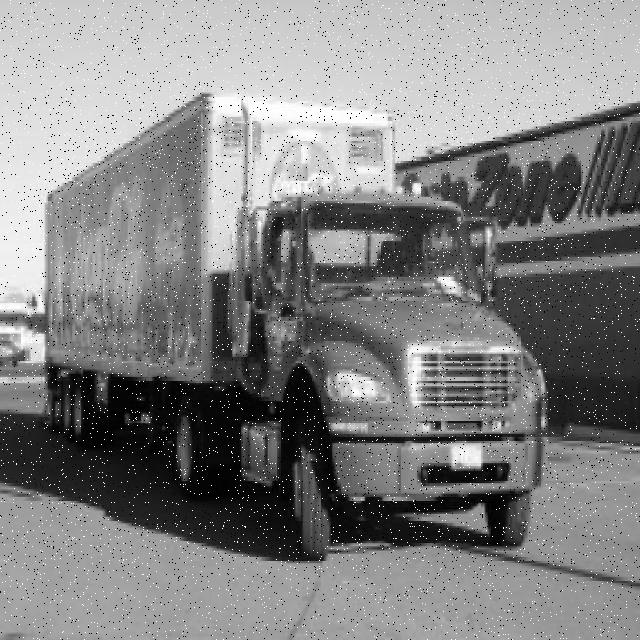Box Truck: (44, 94, 550, 563)
